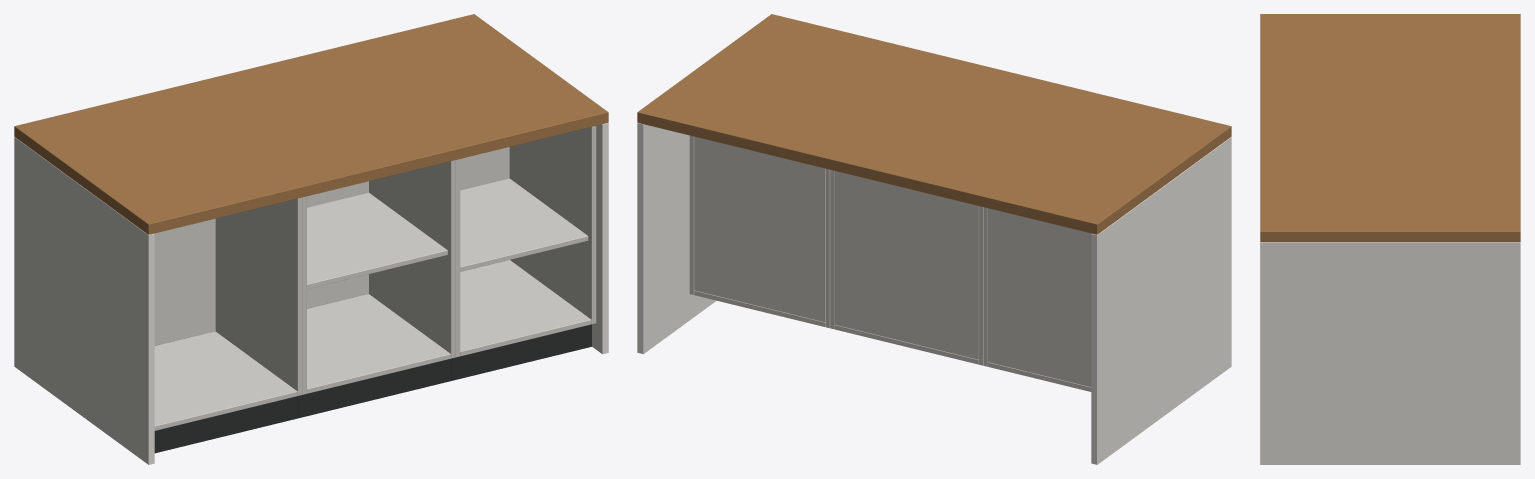
Rendered from kitchen_island_overhang_body.glb.
3 renders of one model, left to right at view 1: azimuth 30°, elevation 25°; view 2: azimuth 150°, elevation 25°; view 3: azimuth 270°, elevation 25°, orthographic. The views are drawn at different scales.
Parts seen in each view (by area): view 1: kitchen_island_overhang_body; view 2: kitchen_island_overhang_body; view 3: kitchen_island_overhang_body.
Part boxes in pixels (x1,y1,x2,y2): kitchen_island_overhang_body: (14,14,608,464); kitchen_island_overhang_body: (637,14,1231,464); kitchen_island_overhang_body: (1260,14,1520,464).
Size of the model in its own units: 1.8 by 0.9 by 0.91.
